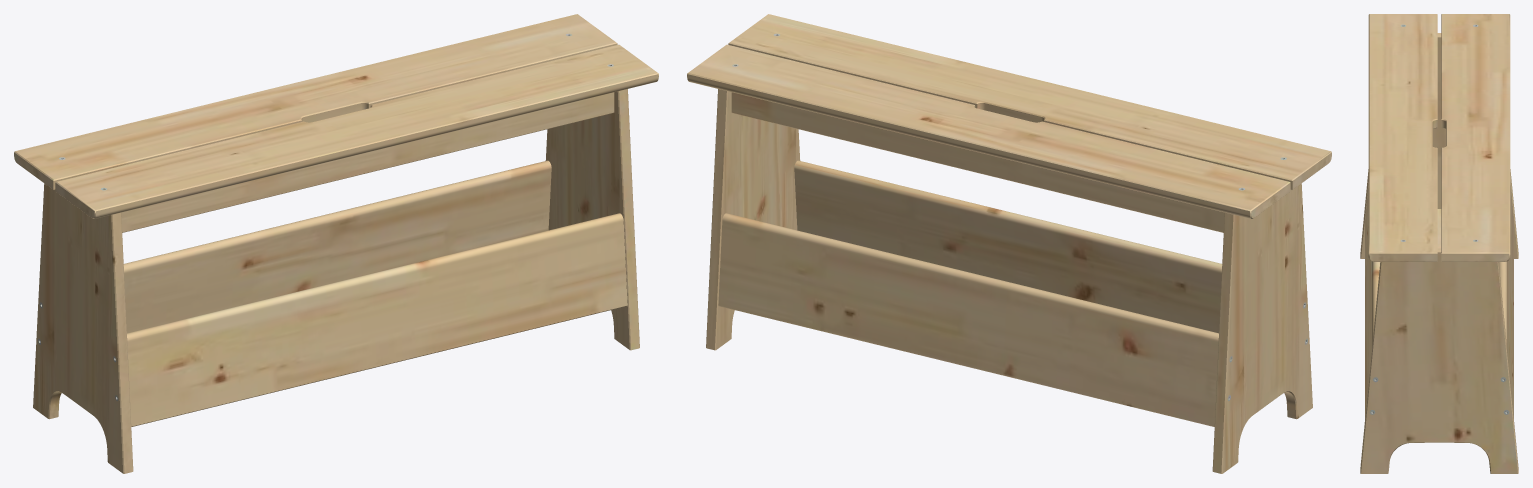
The model's file is LB-BENCH-03.glb.
The picture shows the model from 3 angles, left to right: view 1: azimuth 30°, elevation 25°; view 2: azimuth 150°, elevation 25°; view 3: azimuth 270°, elevation 25°; orthographic projection. The views are drawn at different scales.
Size of the model in its own units: 1 by 0.45 by 0.28.
Materials: 1 (1 with a texture image).
